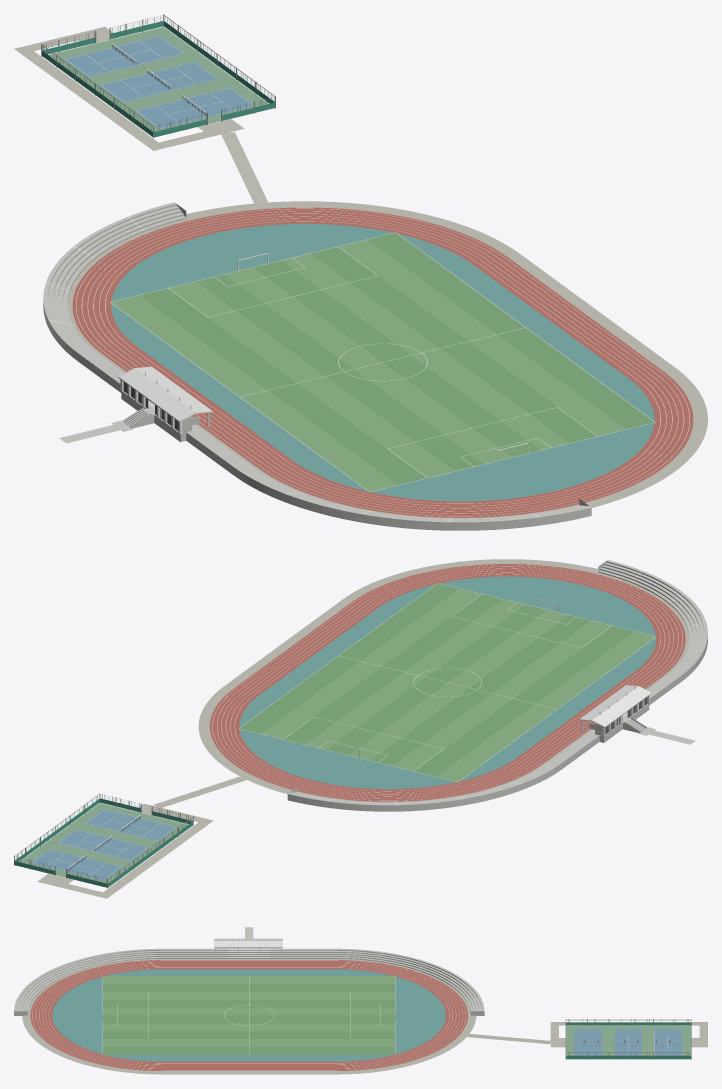
3 renders of one model, top to bottom at view 1: azimuth 30°, elevation 25°; view 2: azimuth 150°, elevation 25°; view 3: azimuth 270°, elevation 25°, orthographic. The views are drawn at different scales.
Parts seen in each view (by area): view 1: n2-grass-a, n2-grass-b, n2-track, n2-apron, n2-stand, n2-lines, n2-outer-walk, n2-court, n2-court-surround, n2-windscreen, n2-roof, n2-fence (+2 smaller); view 2: n2-grass-a, n2-grass-b, n2-track, n2-apron, n2-stand, n2-lines, n2-outer-walk, n2-court, n2-court-surround, n2-windscreen, n2-roof, n2-fence (+2 smaller); view 3: n2-grass-b, n2-grass-a, n2-track, n2-apron, n2-stand, n2-outer-walk, n2-lines, n2-court, n2-court-surround, n2-windscreen, n2-fence, n2-roof (+3 smaller).
Part boxes in pixels (box(x1,y1,x2,y2)): n2-grass-a: box(139, 232, 654, 484); n2-grass-b: box(111, 239, 626, 491); n2-track: box(72, 207, 693, 517); n2-apron: box(111, 223, 654, 501); n2-stand: box(43, 202, 591, 530); n2-lines: box(65, 36, 689, 516); n2-outer-walk: box(67, 201, 707, 518); n2-court: box(64, 36, 255, 129); n2-court-surround: box(48, 27, 268, 131); n2-windscreen: box(42, 21, 274, 137); n2-roof: box(118, 366, 212, 422); n2-fence: box(41, 14, 275, 138); n2-grass-a: box(239, 583, 634, 776); n2-grass-b: box(261, 588, 655, 781); n2-track: box(209, 564, 685, 801); n2-apron: box(239, 576, 655, 789); n2-stand: box(287, 560, 707, 811); n2-lines: box(32, 565, 682, 880); n2-outer-walk: box(198, 559, 689, 802); n2-court: box(31, 809, 177, 880); n2-court-surround: box(20, 803, 187, 883); n2-windscreen: box(14, 798, 193, 887); n2-roof: box(579, 685, 651, 727); n2-fence: box(14, 793, 193, 888); n2-grass-b: box(103, 976, 395, 1046); n2-grass-a: box(103, 984, 395, 1054); n2-track: box(30, 960, 467, 1070); n2-apron: box(52, 969, 446, 1061); n2-stand: box(14, 948, 484, 1015); n2-outer-walk: box(22, 959, 476, 1074); n2-lines: box(32, 960, 667, 1070); n2-court: box(574, 1029, 681, 1055); n2-court-surround: box(566, 1026, 691, 1055); n2-windscreen: box(566, 1022, 691, 1059); n2-fence: box(565, 1019, 691, 1059); n2-roof: box(214, 938, 282, 947).
Bounding box in the file's own units: 127 × 6.89 × 254.
